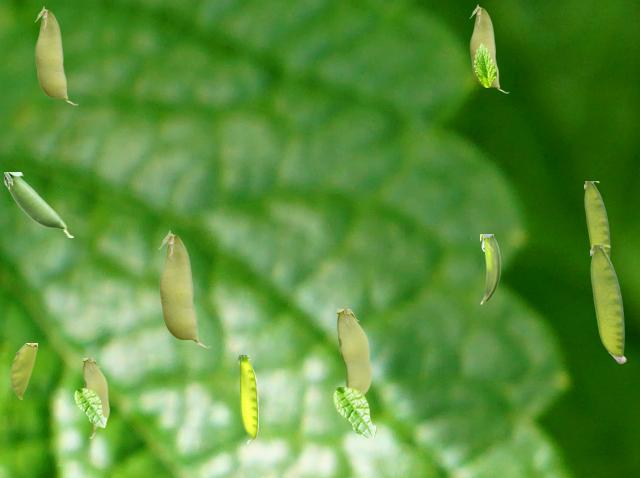pea: (158, 230, 210, 347), (4, 172, 72, 236), (34, 6, 77, 104), (590, 245, 625, 362), (469, 4, 508, 92), (337, 309, 370, 394), (584, 181, 610, 258), (83, 358, 108, 437), (238, 355, 257, 443), (480, 234, 501, 303), (10, 343, 36, 398)
